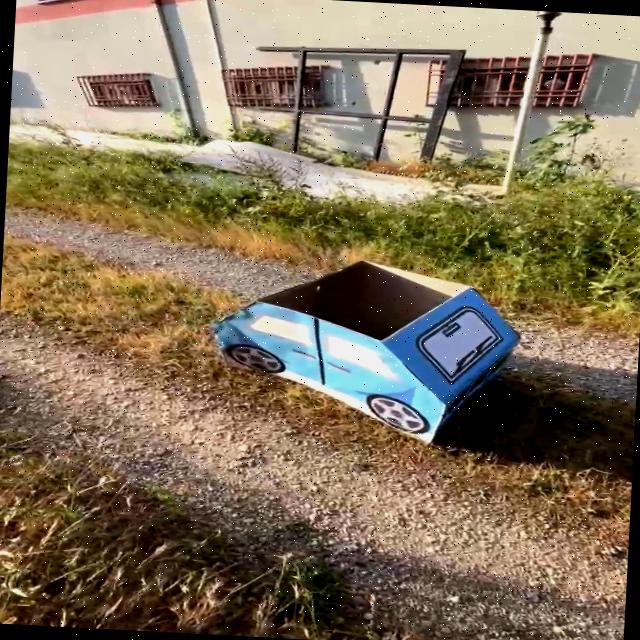blue_car: (184, 243, 565, 454)
